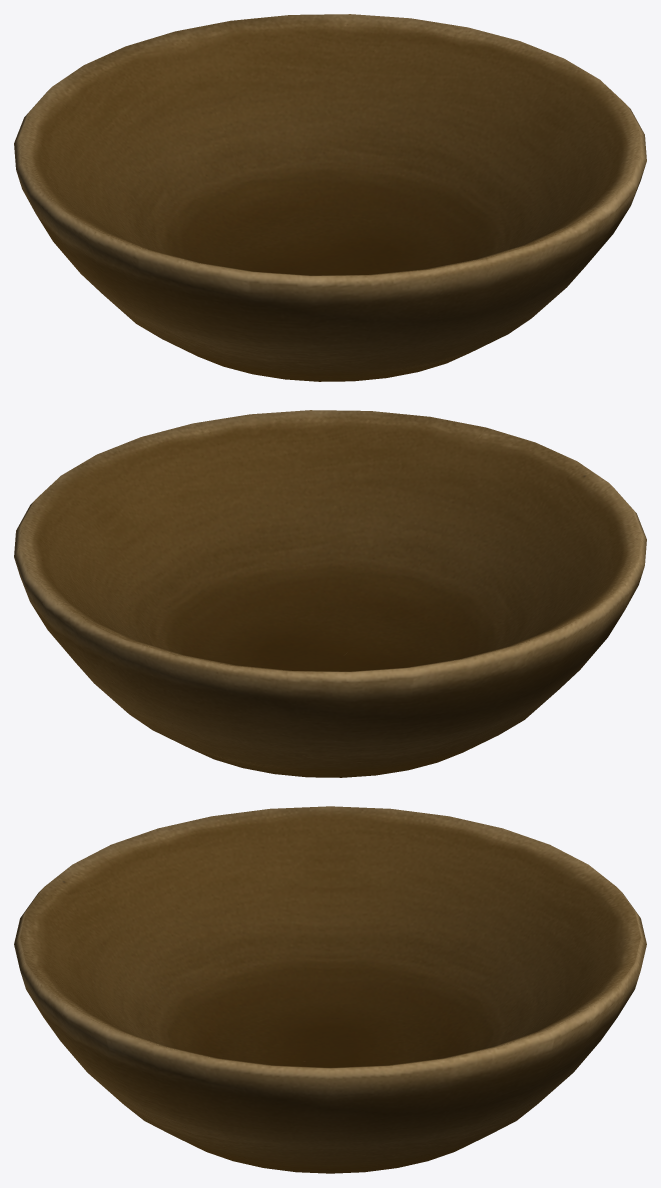
Rendered from Bowl.fbx.
3 views of the same model, one above another, from view 1: azimuth 30°, elevation 25°; view 2: azimuth 150°, elevation 25°; view 3: azimuth 270°, elevation 25° (orthographic).
Visible parts, largest first — view 1: Bowl; view 2: Bowl; view 3: Bowl.
Boxes of the visible parts, x1,y1,x2,y2 form: Bowl: [14, 14, 646, 381]; Bowl: [14, 410, 646, 777]; Bowl: [14, 806, 646, 1173].
Size of the model in its own units: 33.95 by 10.29 by 33.95.
